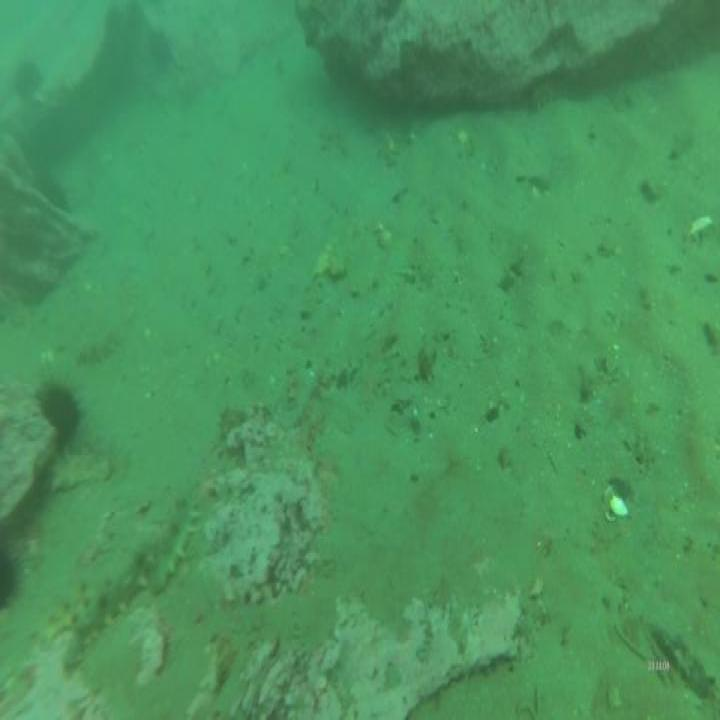echinus: (25, 366, 89, 446)
holothurian: (42, 537, 157, 661), (147, 491, 203, 592), (46, 446, 120, 496)
